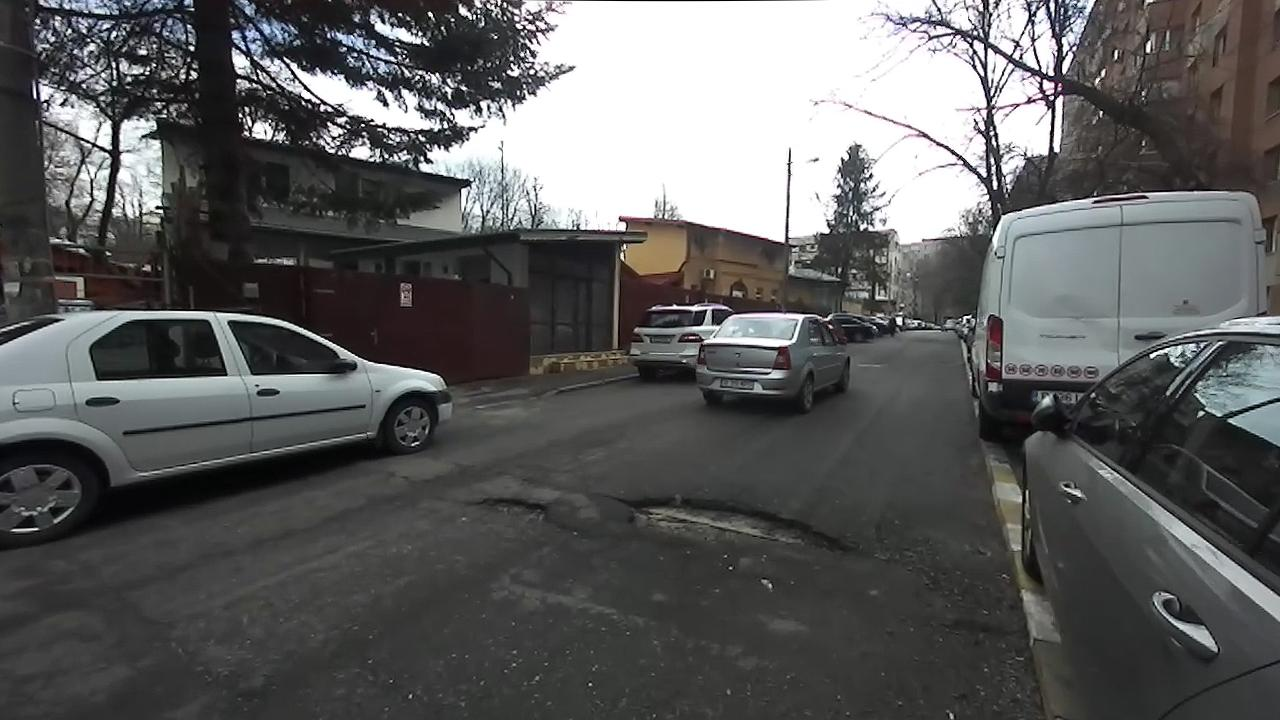pothole: (609, 492, 861, 567), (465, 494, 576, 531)
